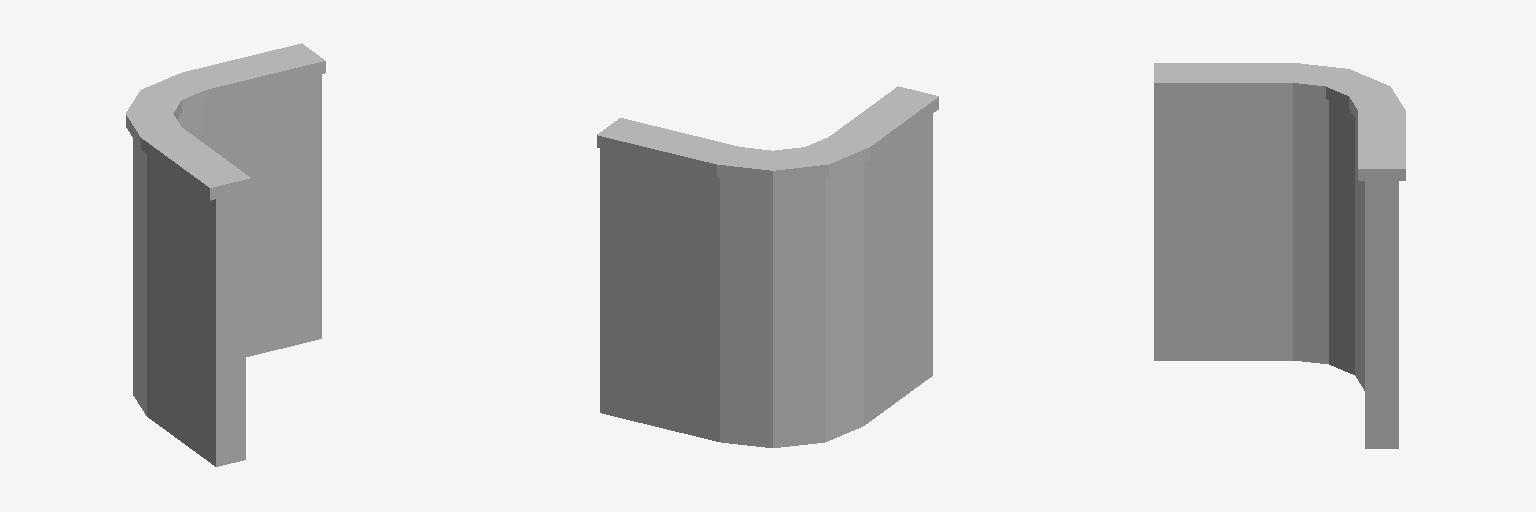
Rendered from Wall_Curver_Small.obj.
3 views of the same model, side by side, from view 1: azimuth 30°, elevation 25°; view 2: azimuth 150°, elevation 25°; view 3: azimuth 270°, elevation 25° (orthographic).
Visible parts, largest first — view 1: Wall_corner_2; view 2: Wall_corner_2; view 3: Wall_corner_2.
Boxes of the visible parts, box(x1,y1,x2,y2) form: Wall_corner_2: box(126, 43, 325, 466); Wall_corner_2: box(597, 86, 938, 447); Wall_corner_2: box(1154, 63, 1405, 448).
Size of the model in its own units: 2.43 by 2.99 by 2.43.